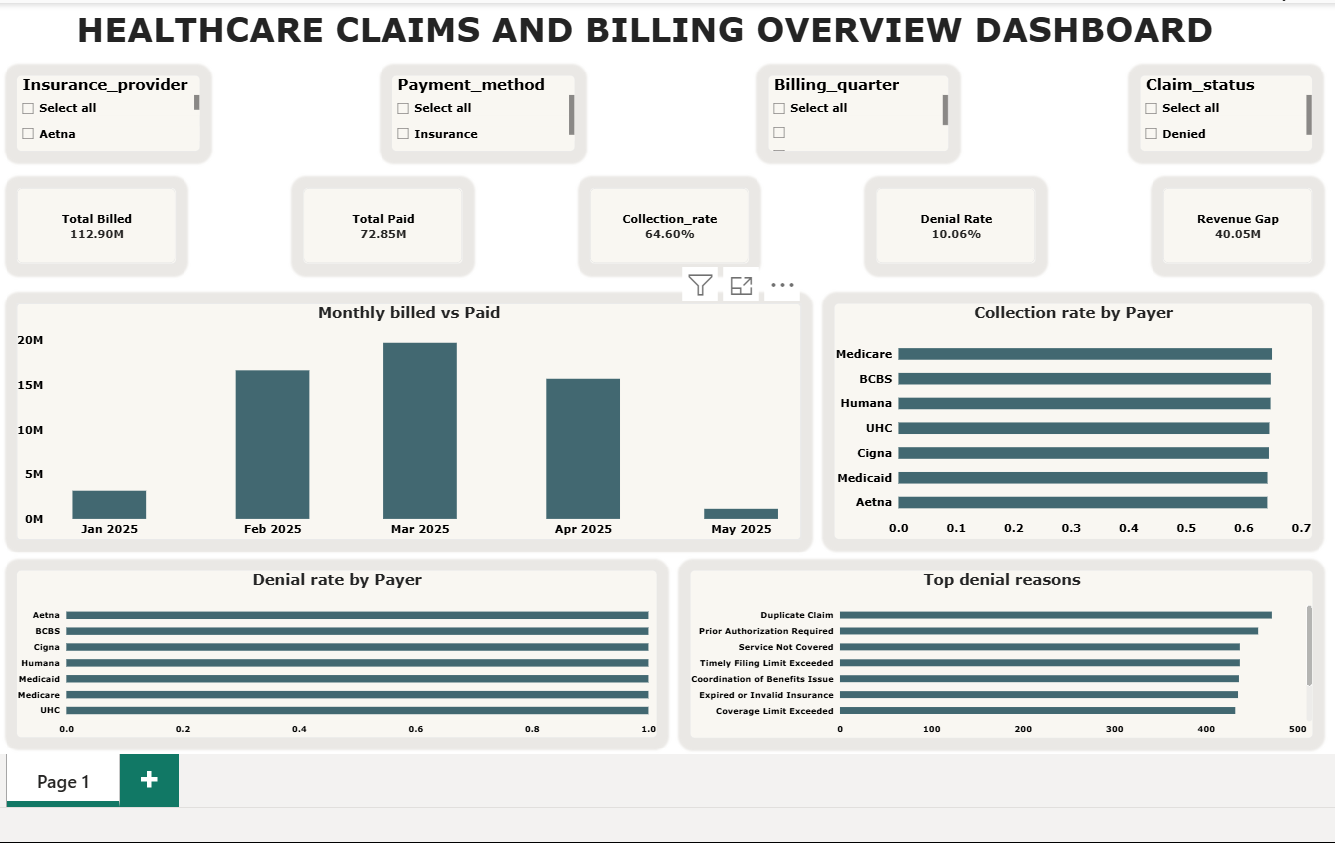

What the dashboard file says about the page in this screenshot:
{"tool":"powerbi","page":{"name":"Page 1","canvas":[1920,1080],"ordinal":0},"visuals":[{"type":"textbox","box":[88,0,1744,82],"z":0},{"type":"cardVisual","fields":{"Data":["claims_and_billing_clean.Total Billed"]},"box":[23.2,272.5,230,110],"z":1000},{"type":"cardVisual","fields":{"Data":["claims_and_billing_clean.Total Paid"]},"box":[433.4,272.5,230,110],"z":2000},{"type":"cardVisual","fields":{"Data":["Avg(claims_and_billing_clean.collection_rate)"]},"box":[843.6,272.5,230,110],"z":3000},{"type":"cardVisual","fields":{"Data":["claims_and_billing_clean.Denial Rate"]},"box":[1253.8,272.5,230,110],"z":4000},{"type":"cardVisual","fields":{"Data":["claims_and_billing_clean.Revenue Gap"]},"box":[1680,272,230,110],"z":5000},{"type":"slicer","fields":{"Values":["claims_and_billing_clean.insurance_provider"]},"box":[23,127.6,264,110],"z":6000},{"type":"slicer","fields":{"Values":["claims_and_billing_clean.payment_method"]},"box":[558,127.6,264,110],"z":7000},{"type":"slicer","fields":{"Values":["claims_and_billing_clean.billing_quarter"]},"box":[1093,127.6,260,110],"z":8000},{"type":"slicer","fields":{"Values":["claims_and_billing_clean.claim_status"]},"box":[1624,127.6,264,110],"z":9000},{"type":"columnChart","title":"Monthly billed vs Paid","fields":{"Y":["claims_and_billing_clean.Total Paid"],"Category":["claims_and_billing_clean.billing_month"]},"box":[24,413,1128,360],"z":10000},{"type":"clusteredBarChart","title":"Collection rate by Payer","fields":{"Category":["claims_and_billing_clean.insurance_provider"],"Y":["claims_and_billing_clean.Collection Rate"]},"box":[1200,413,704,360],"z":11000},{"type":"clusteredBarChart","title":"Denial rate by Payer","fields":{"Category":["claims_and_billing_clean.insurance_provider"],"Y":["claims_and_billing_clean.Denial Rate"]},"box":[32,800,912,256],"z":12000},{"type":"clusteredBarChart","title":"Top denial reasons","fields":{"Category":["claims_and_billing_clean.denial_reason"],"Y":["CountNonNull(claims_and_billing_clean.claim_id)"]},"box":[992,800,912,256],"z":13000}]}

Visuals, with their boxes on the page's 1920x1080 design canvas (x1, y1, x2, y2). These are canvas units, not pixel positions in the 1335x843 screenshot, which may show the page scaled, cropped or inside an application window:
textbox: x1=88, y1=0, x2=1832, y2=82
cardVisual - claims_and_billing_clean.Total Billed: x1=23, y1=272, x2=253, y2=382
cardVisual - claims_and_billing_clean.Total Paid: x1=433, y1=272, x2=663, y2=382
cardVisual - Avg(claims_and_billing_clean.collection_rate): x1=844, y1=272, x2=1074, y2=382
cardVisual - claims_and_billing_clean.Denial Rate: x1=1254, y1=272, x2=1484, y2=382
cardVisual - claims_and_billing_clean.Revenue Gap: x1=1680, y1=272, x2=1910, y2=382
slicer - claims_and_billing_clean.insurance_provider: x1=23, y1=128, x2=287, y2=238
slicer - claims_and_billing_clean.payment_method: x1=558, y1=128, x2=822, y2=238
slicer - claims_and_billing_clean.billing_quarter: x1=1093, y1=128, x2=1353, y2=238
slicer - claims_and_billing_clean.claim_status: x1=1624, y1=128, x2=1888, y2=238
"Monthly billed vs Paid" columnChart: x1=24, y1=413, x2=1152, y2=773
"Collection rate by Payer" clusteredBarChart: x1=1200, y1=413, x2=1904, y2=773
"Denial rate by Payer" clusteredBarChart: x1=32, y1=800, x2=944, y2=1056
"Top denial reasons" clusteredBarChart: x1=992, y1=800, x2=1904, y2=1056
